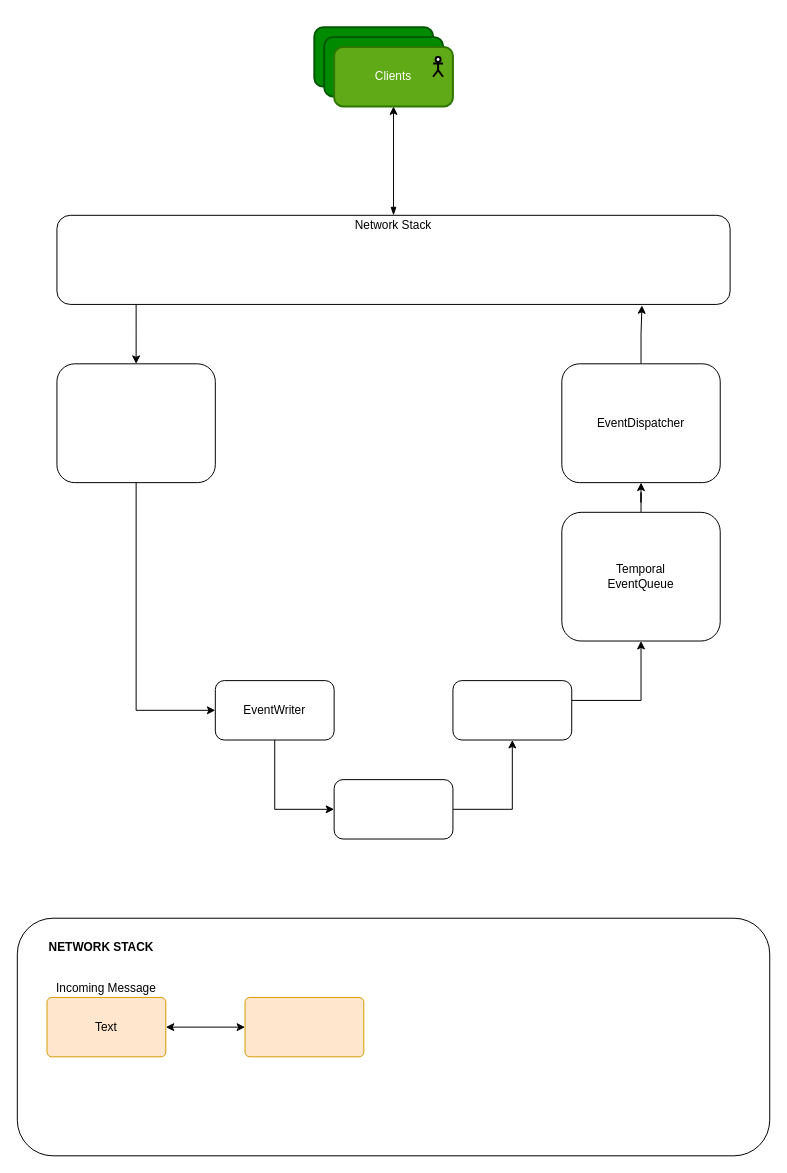
The diagram is 787 pixels wide and 1173 high, and some of its shapes have lost their labels. Each missing label, with the centre of its shape:
EventDatabase: point (393, 809)
EventReader: point (512, 710)
EventReceiver: point (135, 423)
Server: point (304, 1026)
